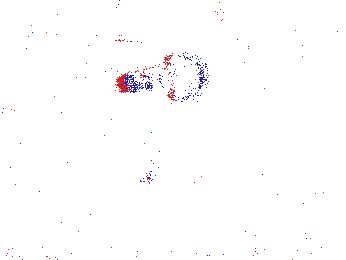flame jellyfish: (117, 50, 211, 104), (244, 172, 316, 227), (130, 123, 180, 186)
